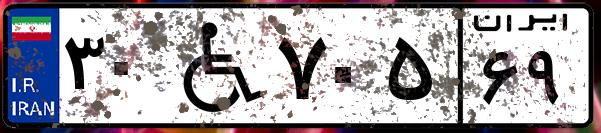0: (330, 28, 385, 110), (110, 28, 158, 98)
3: (57, 26, 110, 100)
5: (385, 28, 445, 110)
6: (475, 38, 525, 113)
7: (270, 28, 330, 110)
9: (525, 38, 570, 115)
ژ (معلولین و جانبازان): (158, 12, 270, 120)
